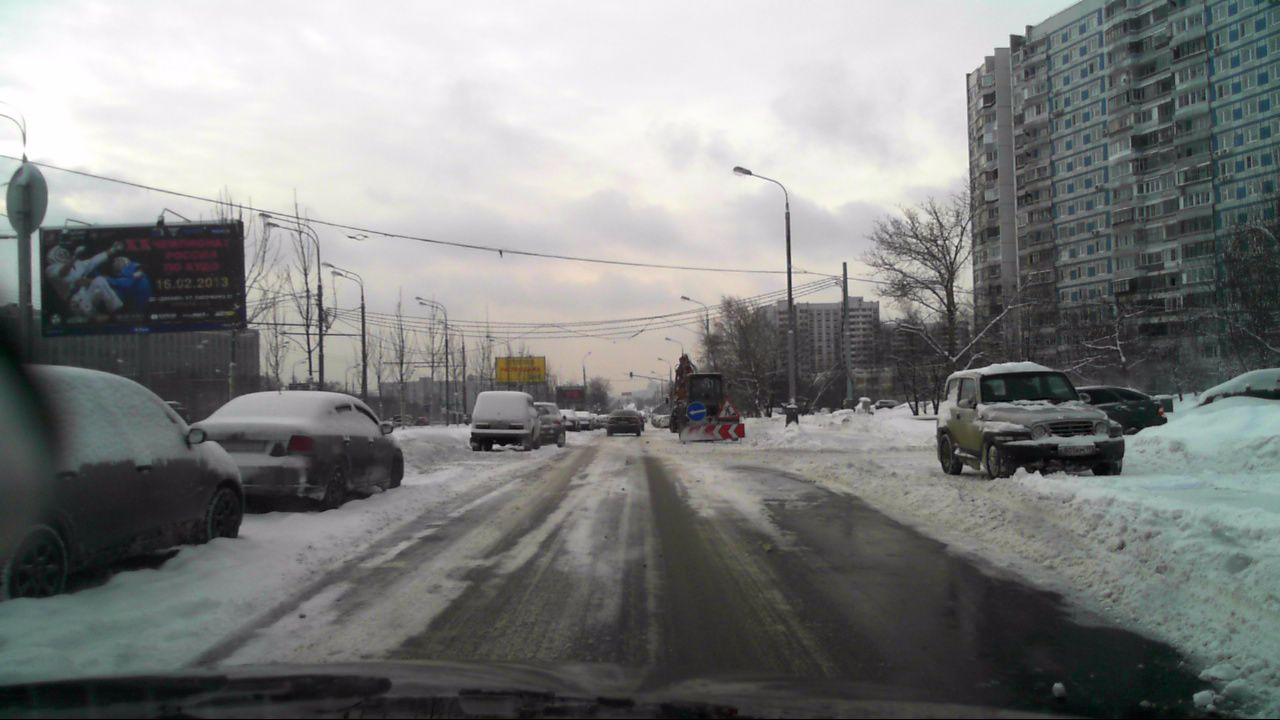Turn Left: (687, 402, 707, 422)
